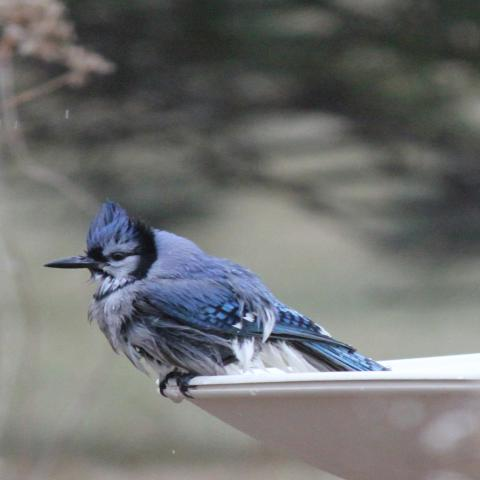bird: (41, 199, 392, 400)
